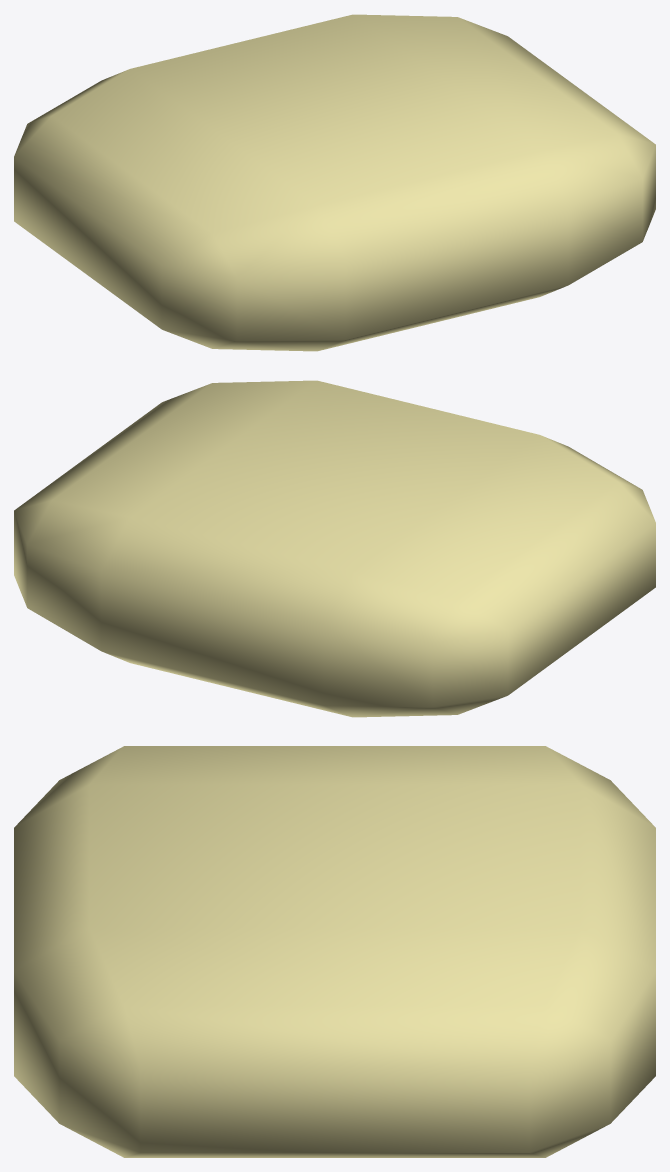
The model's file is pillow.glb.
3 views of the same model, one above another, from view 1: azimuth 30°, elevation 25°; view 2: azimuth 150°, elevation 25°; view 3: azimuth 270°, elevation 25° (orthographic). The views are drawn at different scales.
Visible parts, largest first — view 1: pillow; view 2: pillow; view 3: pillow.
Part boxes in pixels (left/top/right/bottom): pillow: left=14, top=14, right=655, bottom=351; pillow: left=14, top=380, right=655, bottom=717; pillow: left=14, top=746, right=655, bottom=1157.
Bounding box in the file's own units: 0.7484 × 0.2111 × 0.6414.
